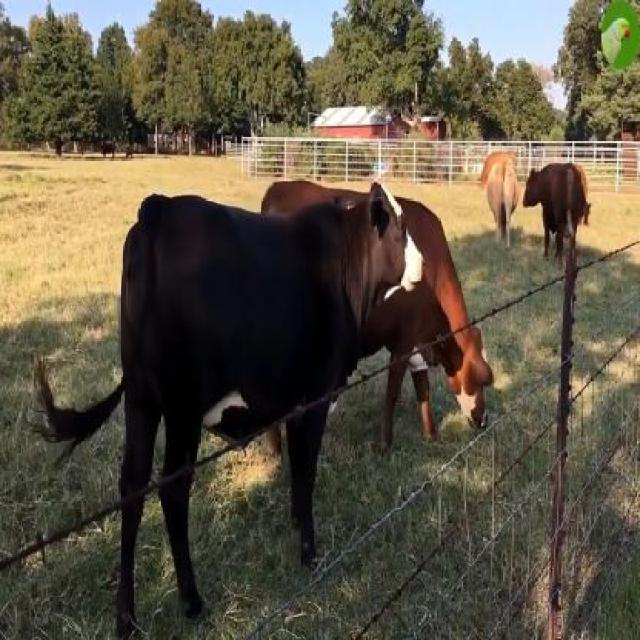Cow: (117, 183, 423, 639), (523, 162, 583, 266)
